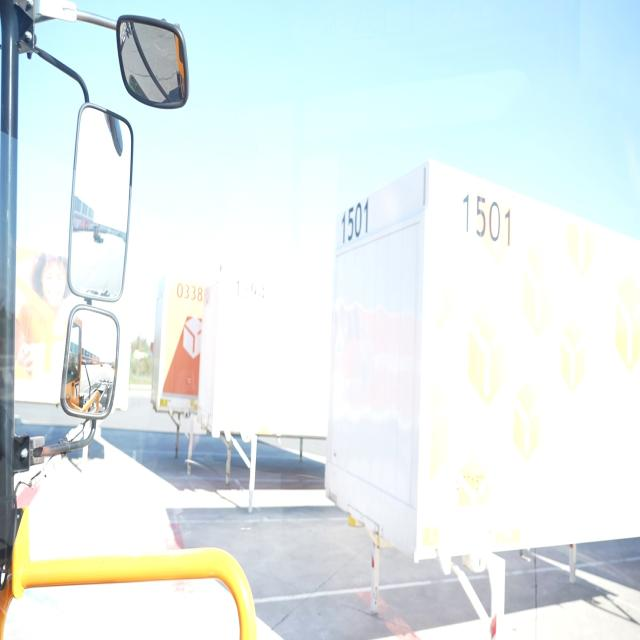Code: (457, 184, 514, 262), (341, 196, 372, 248), (175, 278, 205, 306)
